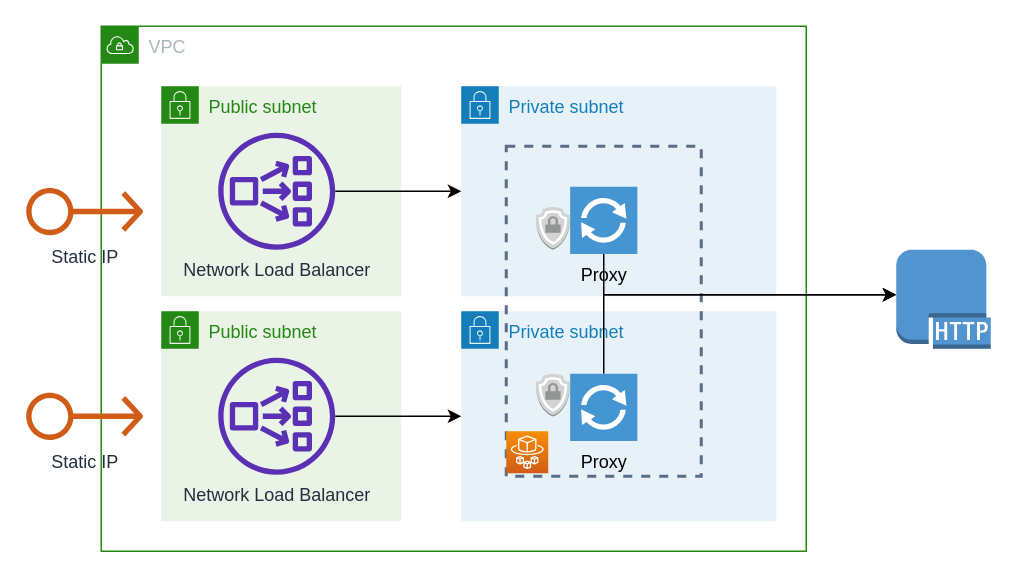
Some shapes in this 1032 by 578 pixel diagram are drawn without their labels. Here are the shapes that lost their labels. From the top down, the box of each, then its label:
(504, 144, 702, 477): ECS Fargate cluster
(895, 248, 991, 349): HTTP back-end
